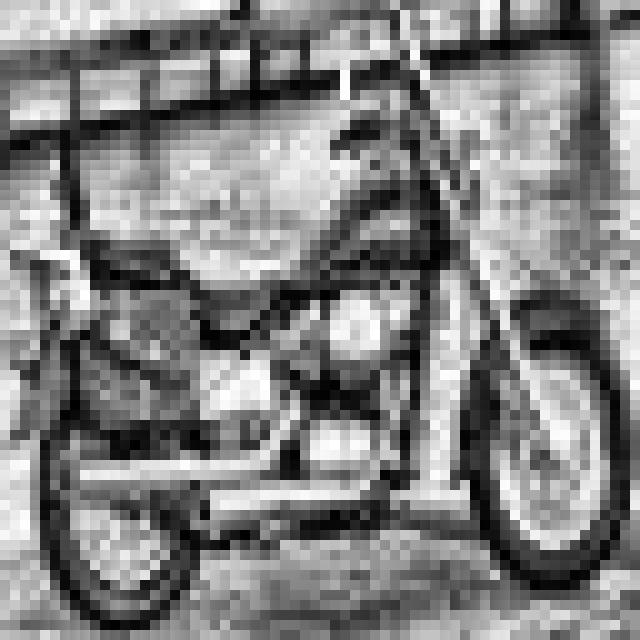mopeds: (3, 169, 632, 630)
